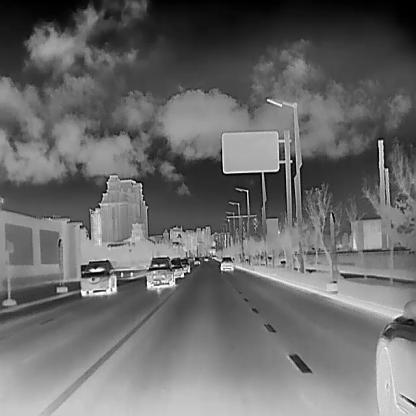car: (375, 296, 415, 415), (79, 258, 116, 294), (146, 255, 174, 289), (170, 257, 183, 277), (219, 255, 235, 270), (180, 257, 190, 271), (193, 256, 200, 264), (203, 254, 209, 261), (210, 255, 215, 260)
